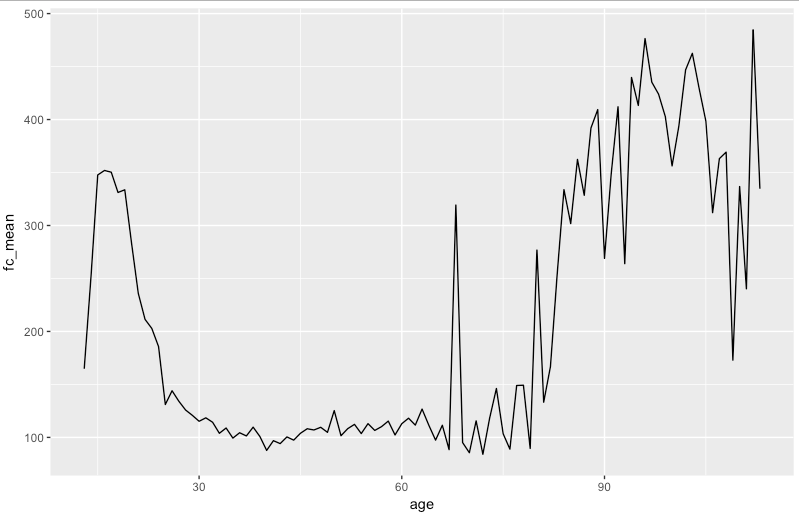

This screenshot's page, from the dashboard's own definition file:
{"tool":"tableau","page":{"name":"Dashboard 2","canvas":[1000,1000],"units":"permille","ordinal":1},"visuals":[{"type":"worksheet","title":"Sheet 1","mark":"Line","rows":["Rank","Rank"],"cols":["Year"],"box":[0,0,993.9,1000]}]}

Visuals, with their boxes on the dashboard's canvas, which has no fixed pixel size, in thousandths of its width and height (x1, y1, x2, y2). These are canvas units, not pixel positions in the 799x517 screenshot, which may show the page scaled, cropped or inside an application window:
"Sheet 1" worksheet (Line marks): [x1=0, y1=0, x2=994, y2=1000]
